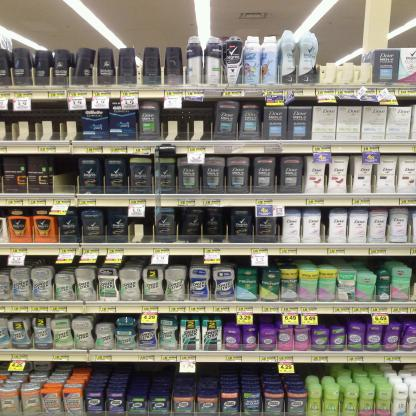Void: (1, 105, 80, 141), (162, 105, 208, 141), (323, 37, 370, 62), (56, 156, 76, 195), (137, 362, 170, 382)
